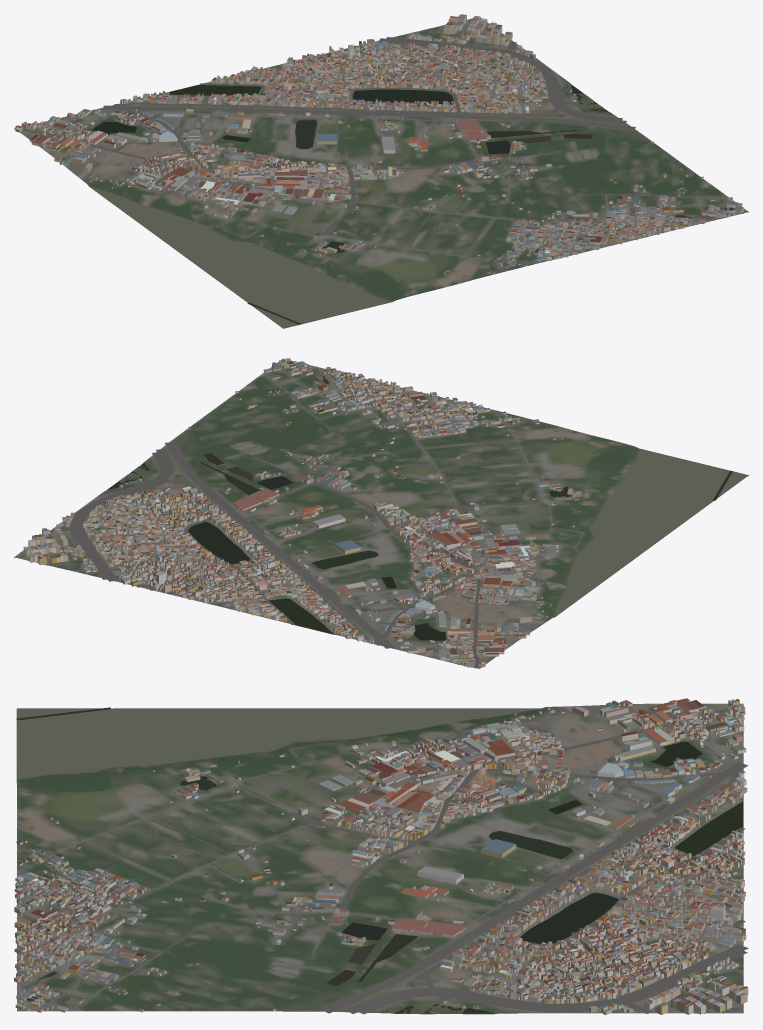
3 views of the same model, one above another, from view 1: azimuth 30°, elevation 25°; view 2: azimuth 150°, elevation 25°; view 3: azimuth 270°, elevation 25° (orthographic). The views are drawn at different scales.
Parts seen in each view (by area): view 1: ground, buildings, water, roads; view 2: ground, buildings, water, roads; view 3: ground, buildings, water, roads.
Part boxes in pixels (<box>): ground: <box>14,17,748,328</box>; buildings: <box>15,14,744,274</box>; water: <box>90,25,692,328</box>; roads: <box>15,18,741,276</box>; ground: <box>14,358,748,668</box>; buildings: <box>23,358,598,667</box>; water: <box>107,376,747,640</box>; roads: <box>17,360,583,668</box>; ground: <box>16,703,743,1014</box>; buildings: <box>14,698,748,1014</box>; water: <box>16,707,742,1013</box>; roads: <box>16,703,748,1014</box>.
Bounding box in the file's own units: 1420 × 36.75 × 1418.
